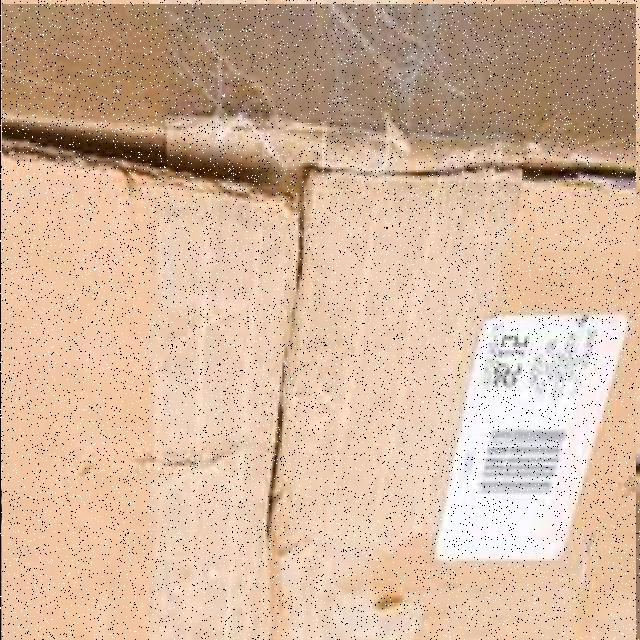normal: (1, 4, 635, 640)
